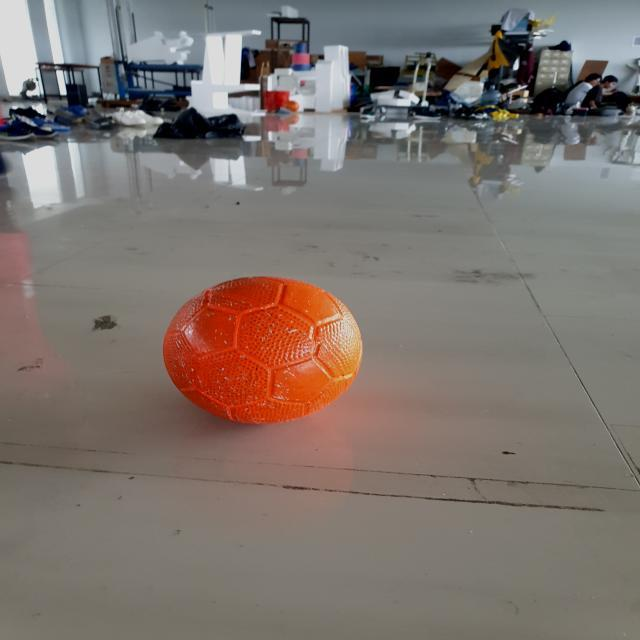bola: (161, 268, 368, 434)
